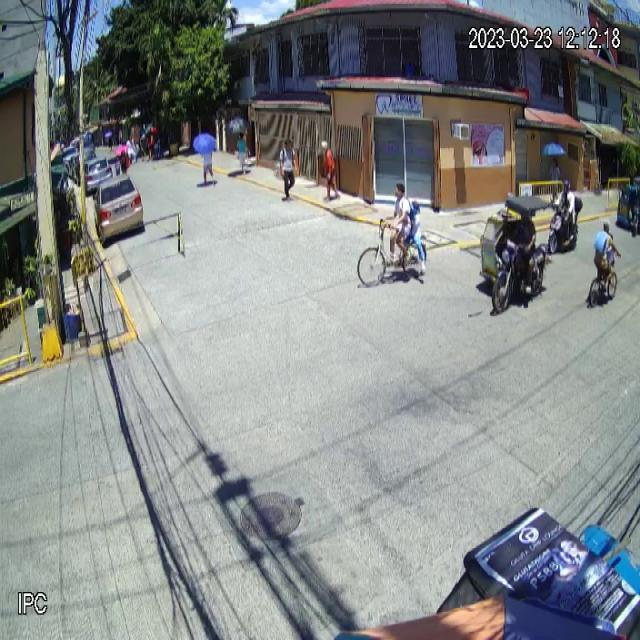Car: (94, 173, 143, 242)
Tricycle: (478, 194, 551, 314)
